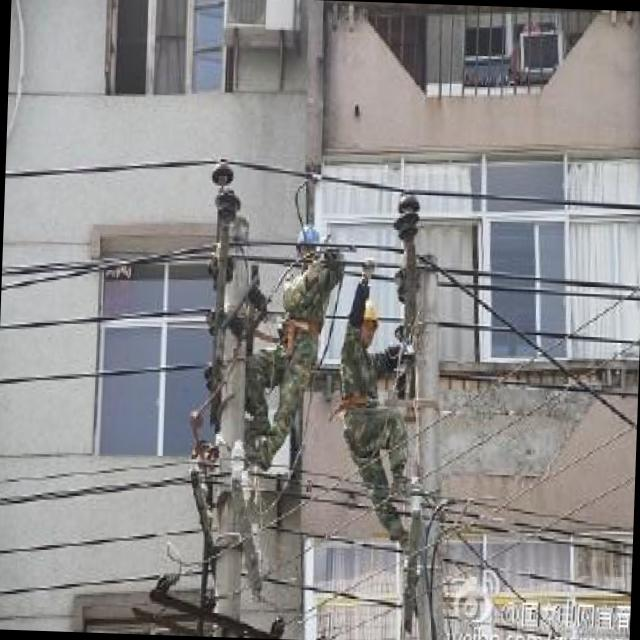helmet: (292, 218, 328, 280), (350, 290, 384, 348)
